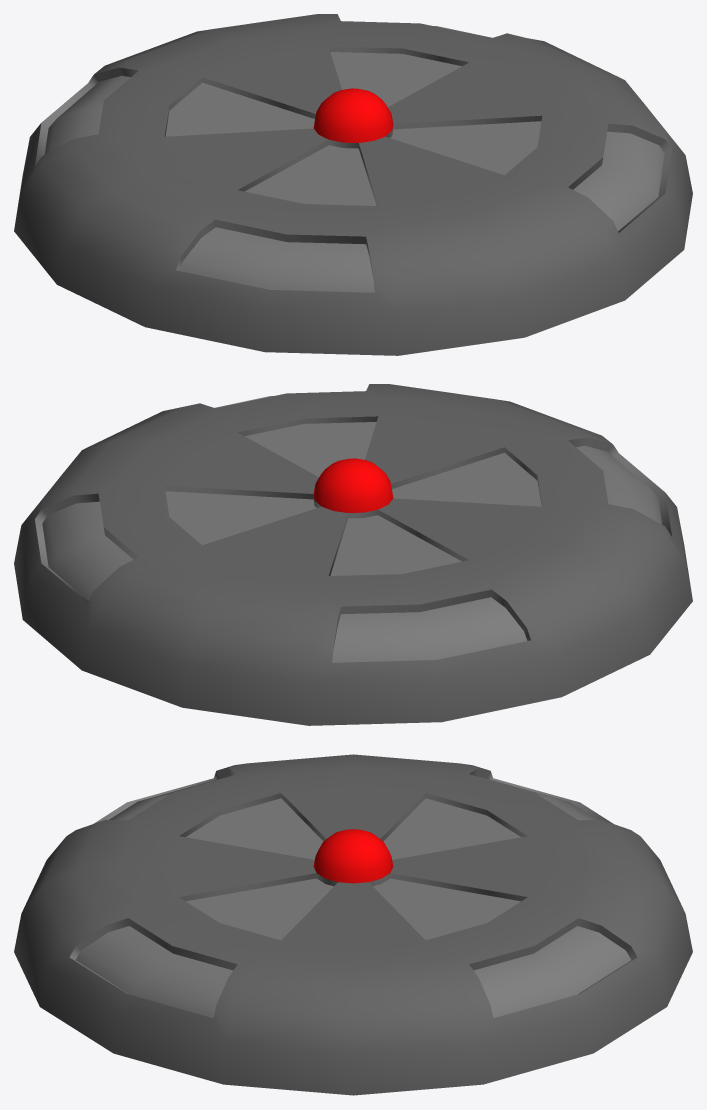
File: Mine.fbx
The picture shows the model from 3 angles, top to bottom: view 1: azimuth 30°, elevation 25°; view 2: azimuth 150°, elevation 25°; view 3: azimuth 270°, elevation 25°; orthographic projection.
Parts seen in each view (by area): view 1: Mine; view 2: Mine; view 3: Mine.
Boxes of the visible parts, x1,y1,x2,y2 form: Mine: (14,14,692,355); Mine: (14,384,692,725); Mine: (14,754,692,1095).
Bounding box in the file's own units: 1.85 × 0.357 × 1.85.
